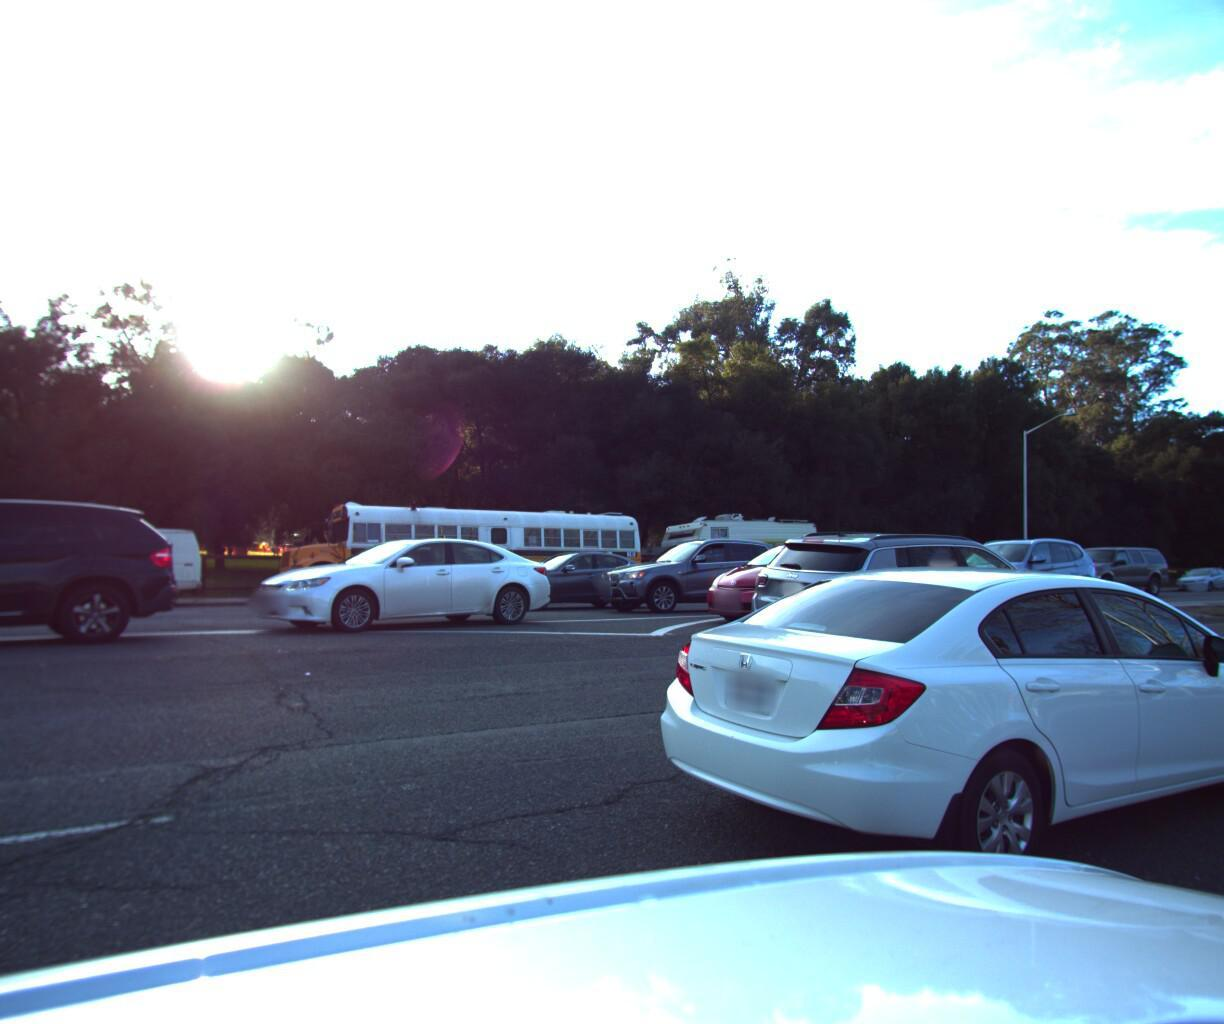bus: (265, 488, 645, 609)
car: (623, 537, 1224, 940), (720, 517, 1091, 695), (0, 476, 202, 678), (236, 523, 570, 638), (691, 528, 927, 630), (587, 532, 789, 622), (915, 525, 1107, 613), (480, 546, 668, 609), (1041, 540, 1170, 593), (1165, 557, 1224, 588)
other_vehicle: (0, 519, 210, 615), (652, 501, 827, 597)
